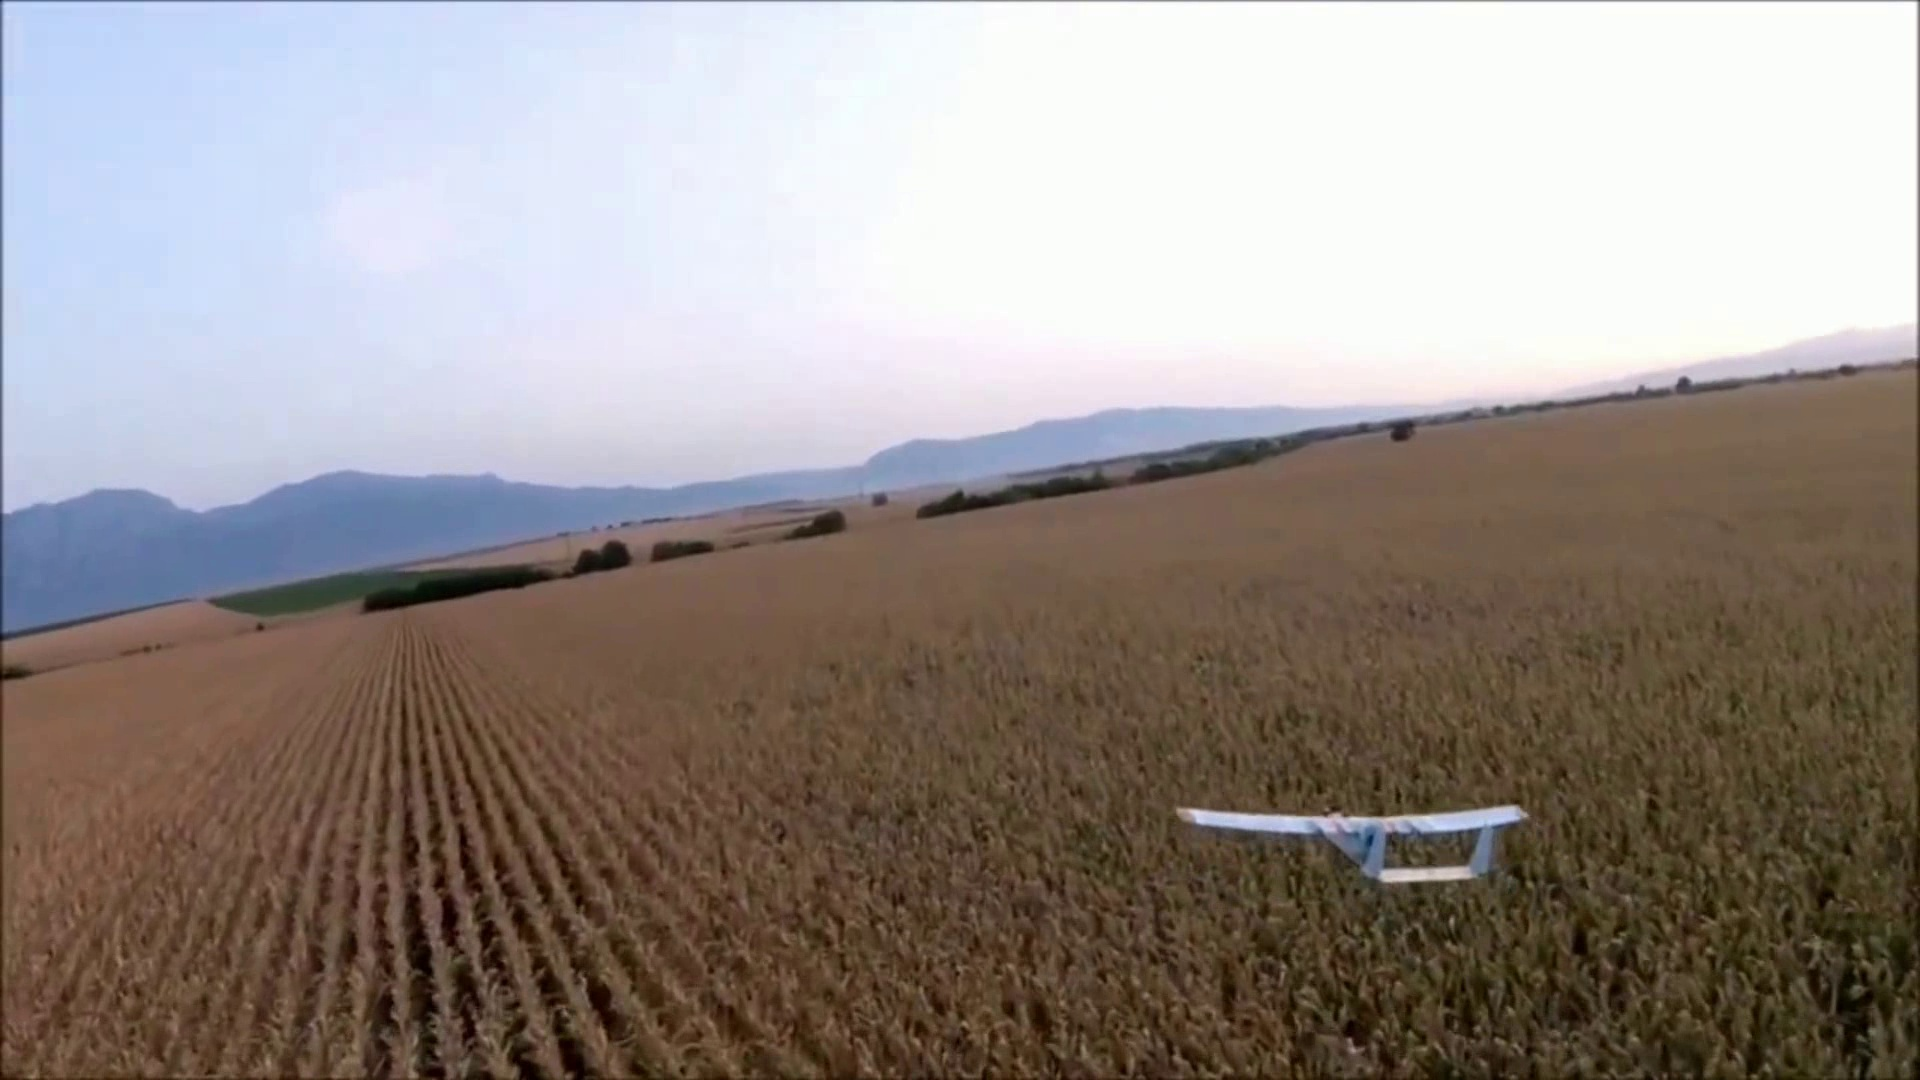airplane: (22, 313, 1902, 915), (1175, 804, 1528, 882)
